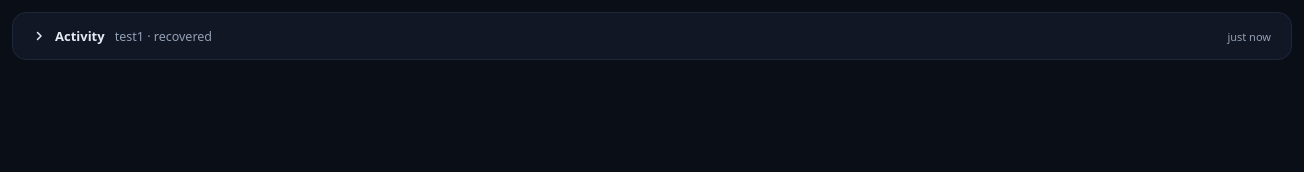
Test case: EventsFeed › renders newest first
The image size is (1304, 172).
Click the button "Activity test1 · recovered just now" at (80, 36), box [13,13,1291,59]
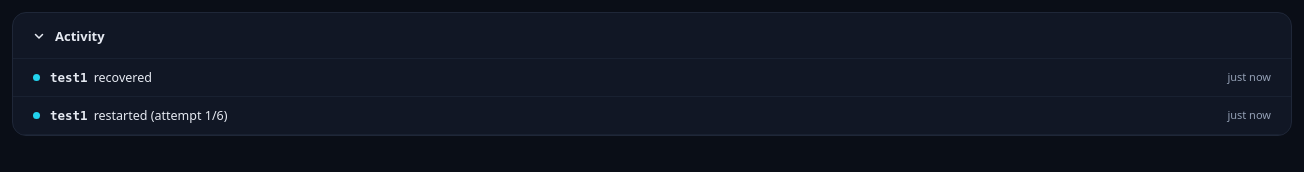
Now the list item "test1recovered just now" is shown, box [13,59,1291,97]
